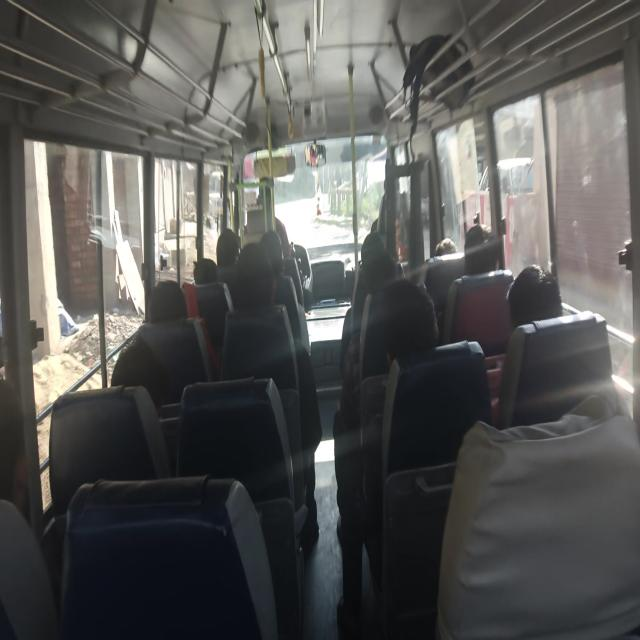person: (436, 389, 640, 638), (335, 278, 439, 634), (221, 241, 322, 545), (110, 279, 213, 410), (489, 263, 564, 419), (506, 263, 563, 331), (463, 223, 502, 275), (216, 228, 240, 267), (192, 258, 218, 285), (433, 236, 457, 256)
